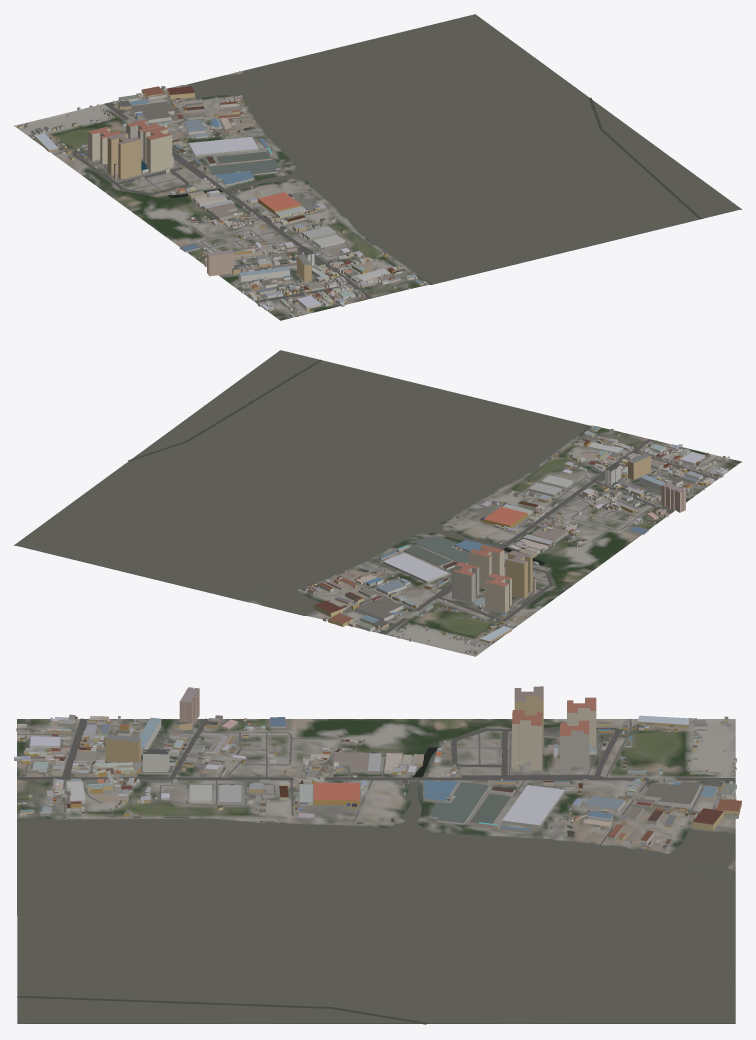
3 renders of one model, top to bottom at view 1: azimuth 30°, elevation 25°; view 2: azimuth 150°, elevation 25°; view 3: azimuth 270°, elevation 25°, orthographic. The views are drawn at different scales.
Parts seen in each view (by area): view 1: water, ground, buildings, roads; view 2: water, ground, buildings, roads; view 3: water, ground, buildings, roads.
Part boxes in pixels (bbox=[...]): water: bbox=[168, 14, 740, 283]; ground: bbox=[14, 17, 741, 320]; buildings: bbox=[17, 86, 427, 317]; roads: bbox=[53, 71, 425, 314]; water: bbox=[15, 350, 588, 614]; ground: bbox=[14, 354, 741, 656]; buildings: bbox=[302, 425, 729, 654]; roads: bbox=[243, 430, 718, 634]; water: bbox=[17, 731, 735, 1024]; ground: bbox=[17, 719, 735, 1023]; buildings: bbox=[14, 686, 741, 851]; roads: bbox=[17, 718, 735, 874].
Size of the model in its own units: 1427 by 108 by 1419.
